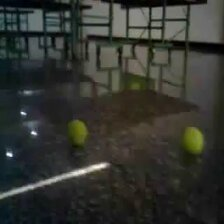tennis: (181, 126, 206, 156), (66, 119, 89, 147)
